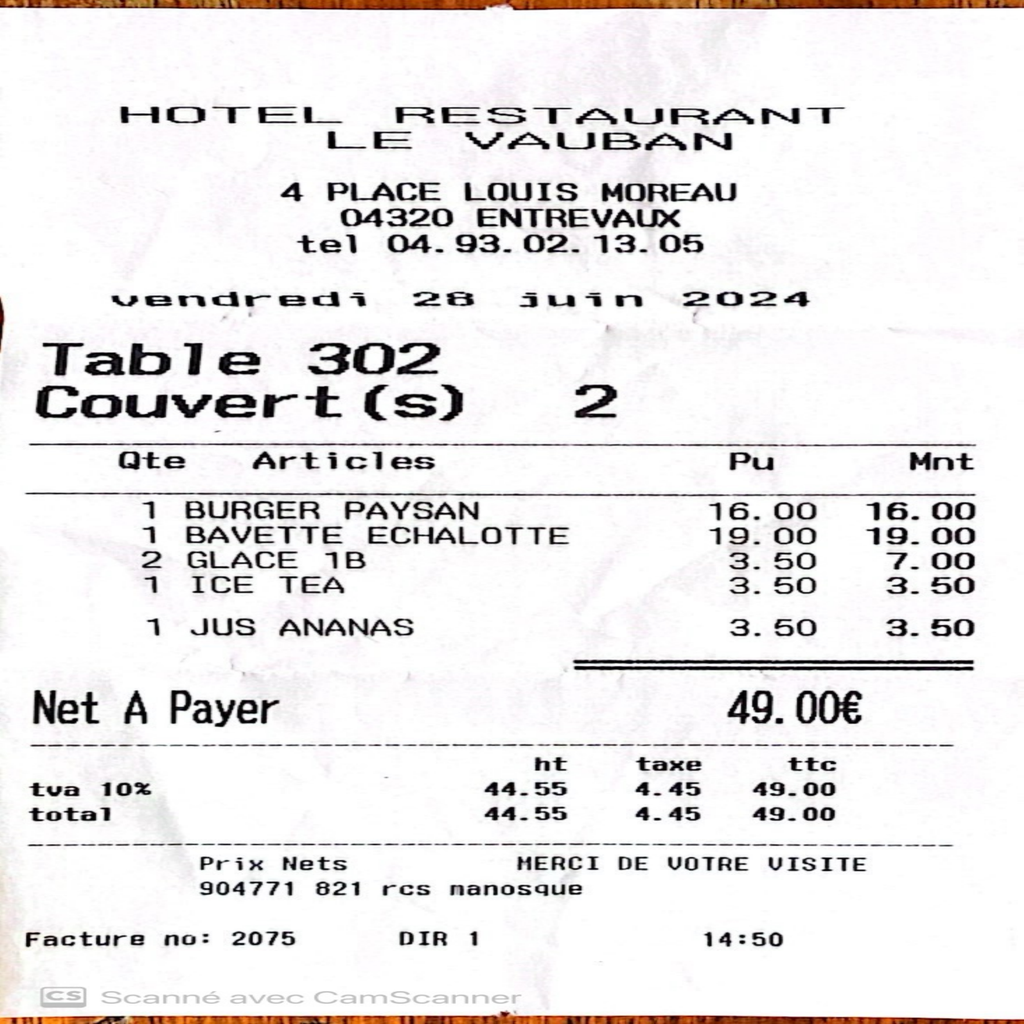recipt: (4, 4, 1024, 1016)
